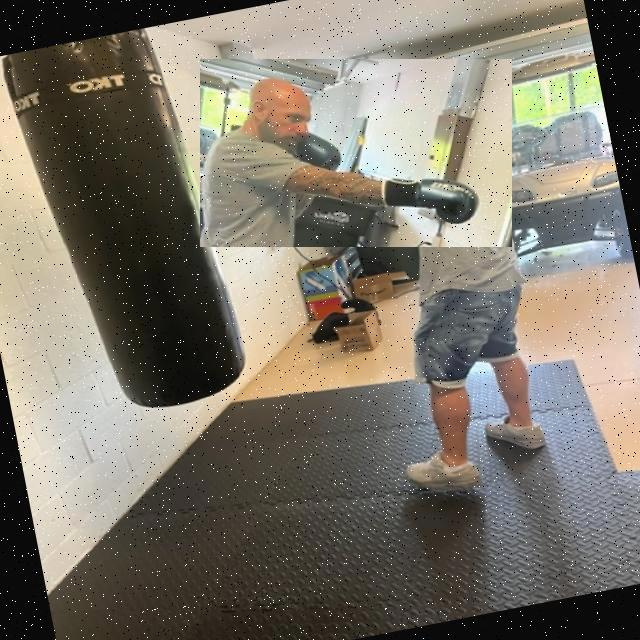punch: (200, 59, 512, 247)
